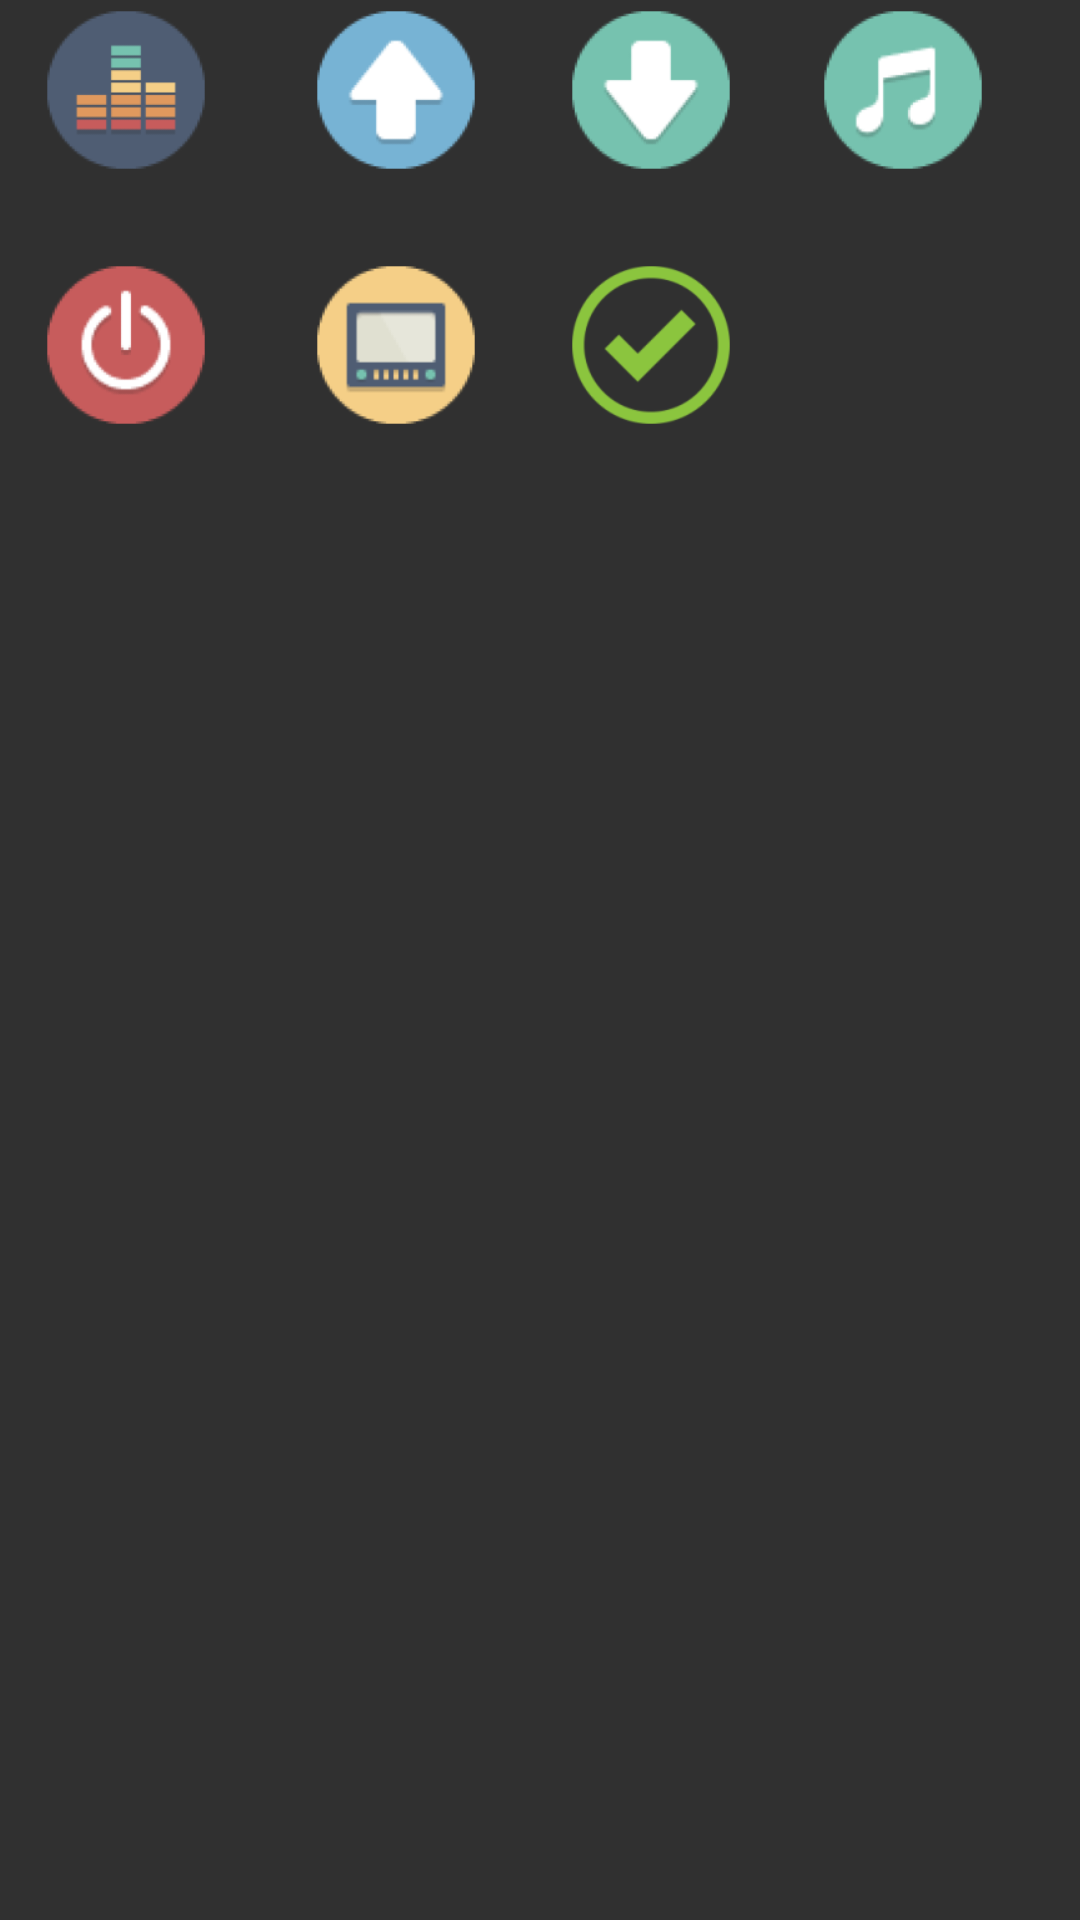

Screen size 1080w x 1920h. Icon name, then its box in pixels as (x1, y1, x2, y2):
down: (572, 11, 730, 169)
music: (824, 11, 982, 169)
power: (47, 266, 205, 424)
yes pair: (572, 266, 730, 424)
